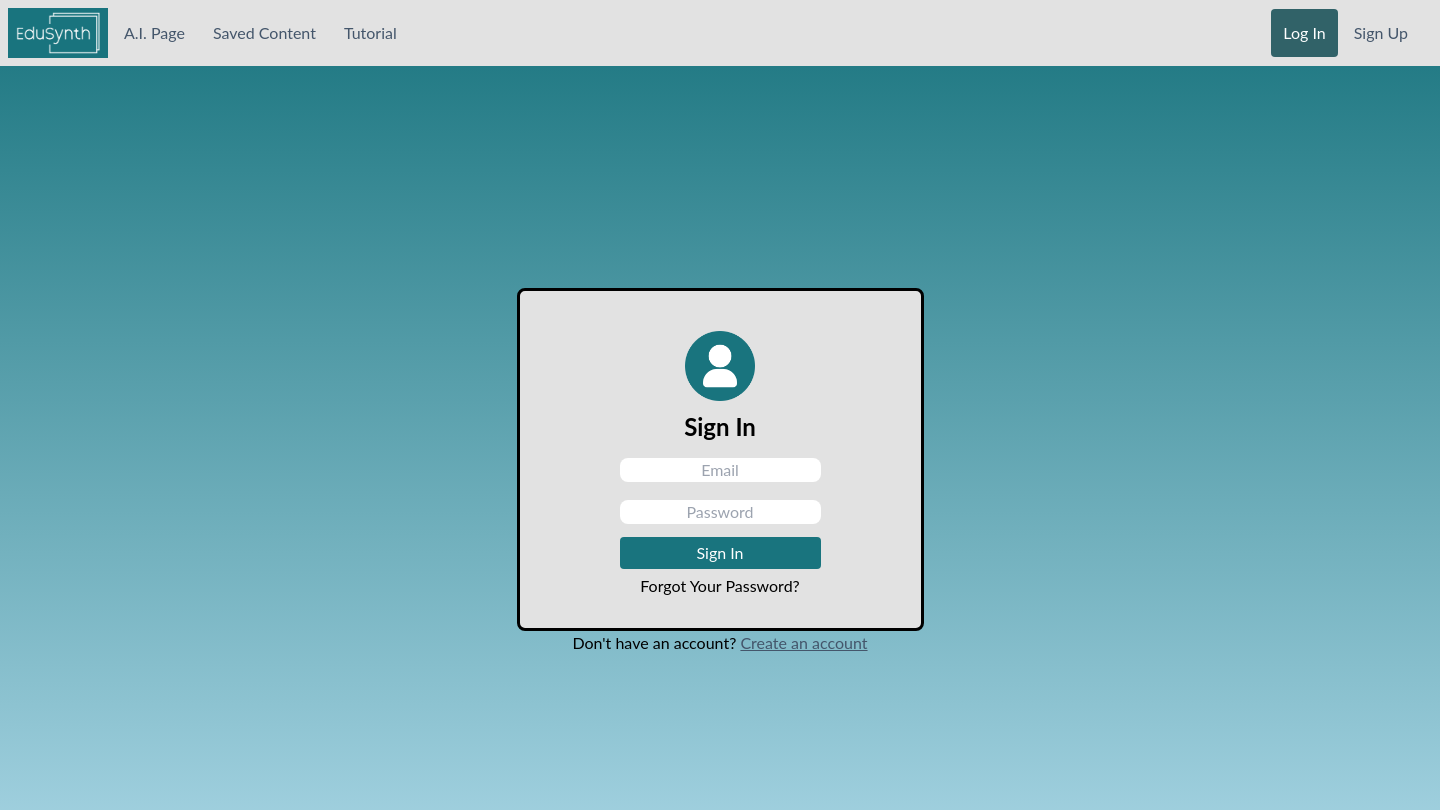
it: Login Component › Invalid email format inputted shows error message
Enter invalid email and valid password
Type "invalidemail" into the field with placeholder "Email" at {"x": 720, "y": 470}, box 620,458 -> 820,482
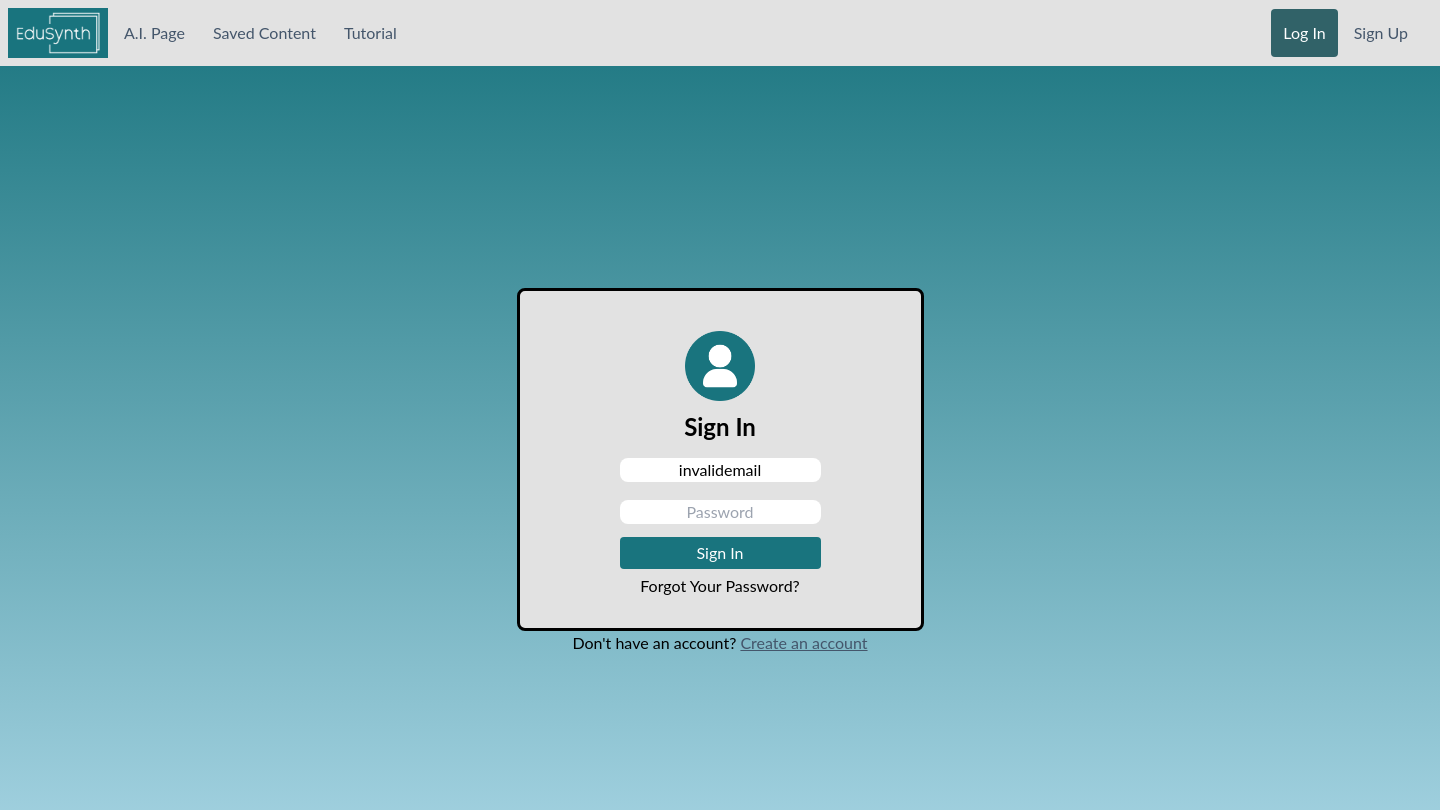
Type "Pa$$word1" into the password field with placeholder "Password" at {"x": 720, "y": 512}, box 620,500 -> 820,524
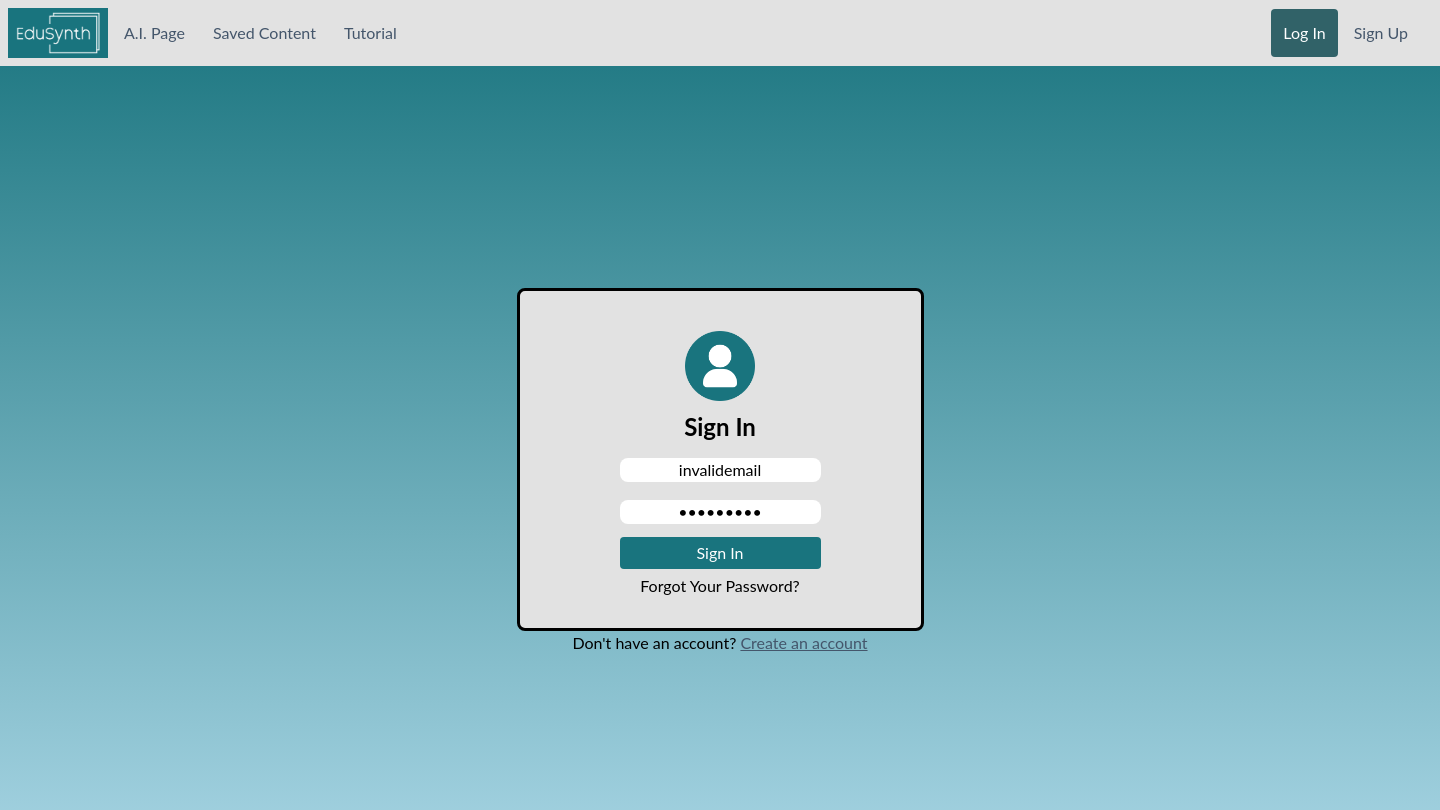
Click the button "Sign In" at {"x": 720, "y": 552}, box 620,536 -> 820,568
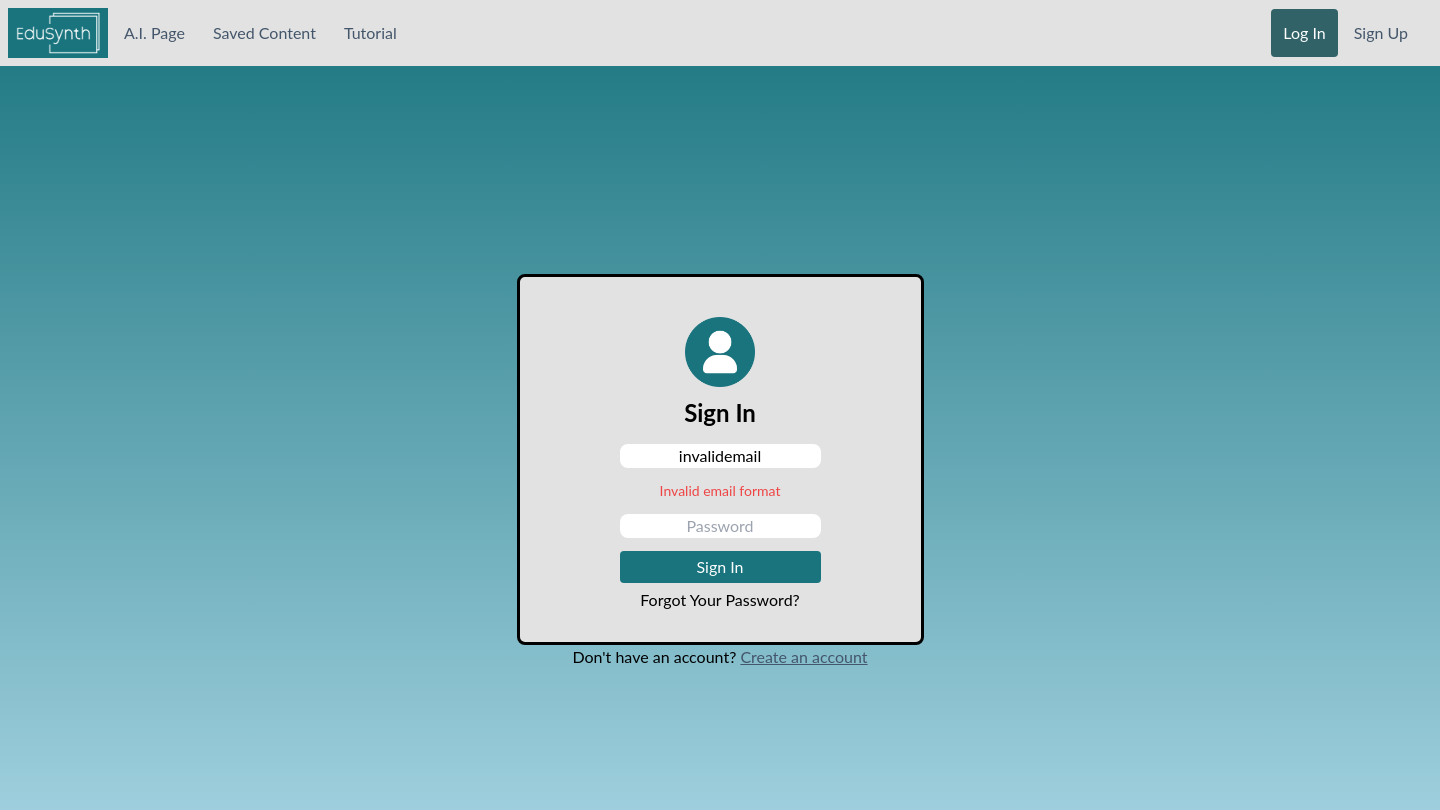
Expected: the text "Invalid email format" is shown, 660,482 -> 780,498
